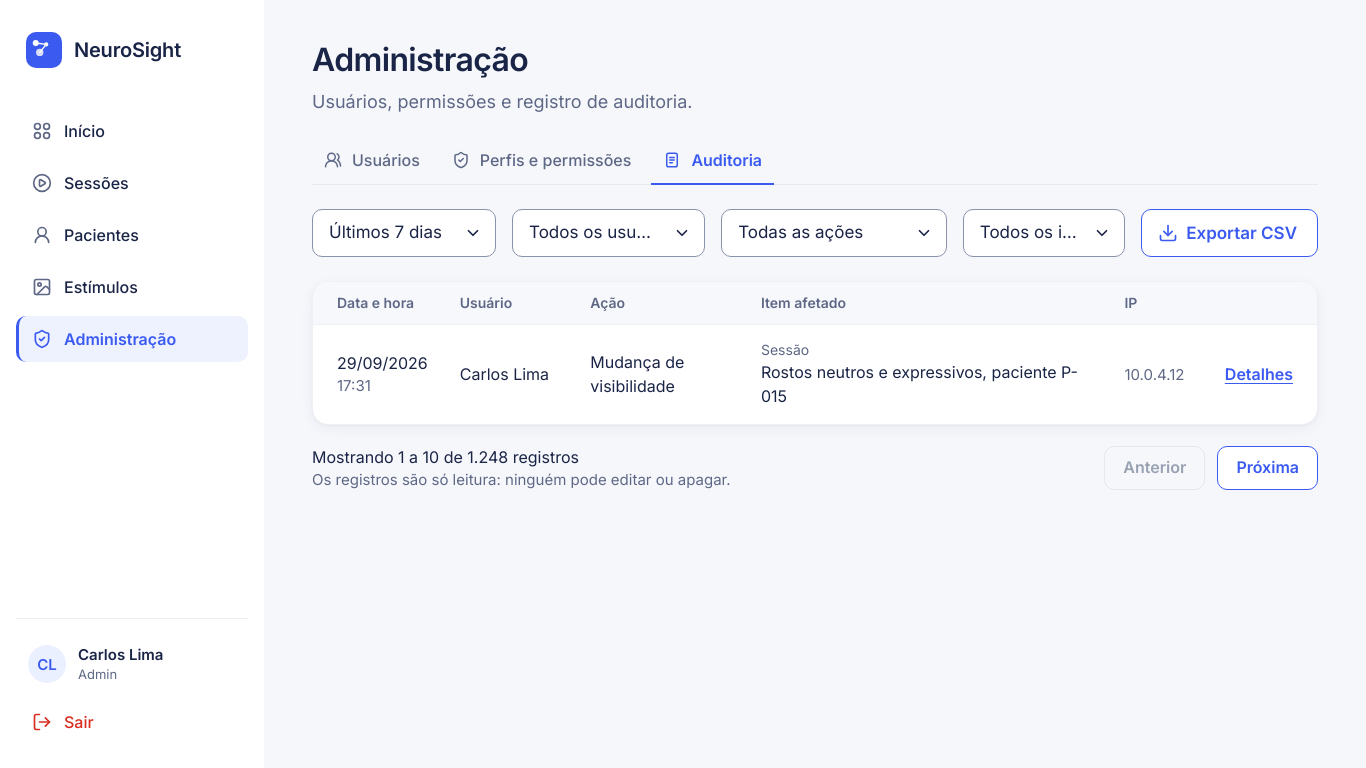
Test case: W22 Auditoria e W23 Detalhes › lista, filtra e abre o detalhe com o que mudou
Expected: the text "Rostos neutros e expressivos, paciente P-015" is shown, [761, 360, 1092, 408]
Expected: the text "Mudança de visibilidade" is shown, [574, 324, 745, 424]
Select "Login" in the 3rd dropdown named "Ação". click: (834, 233)
box: [721, 209, 947, 257]
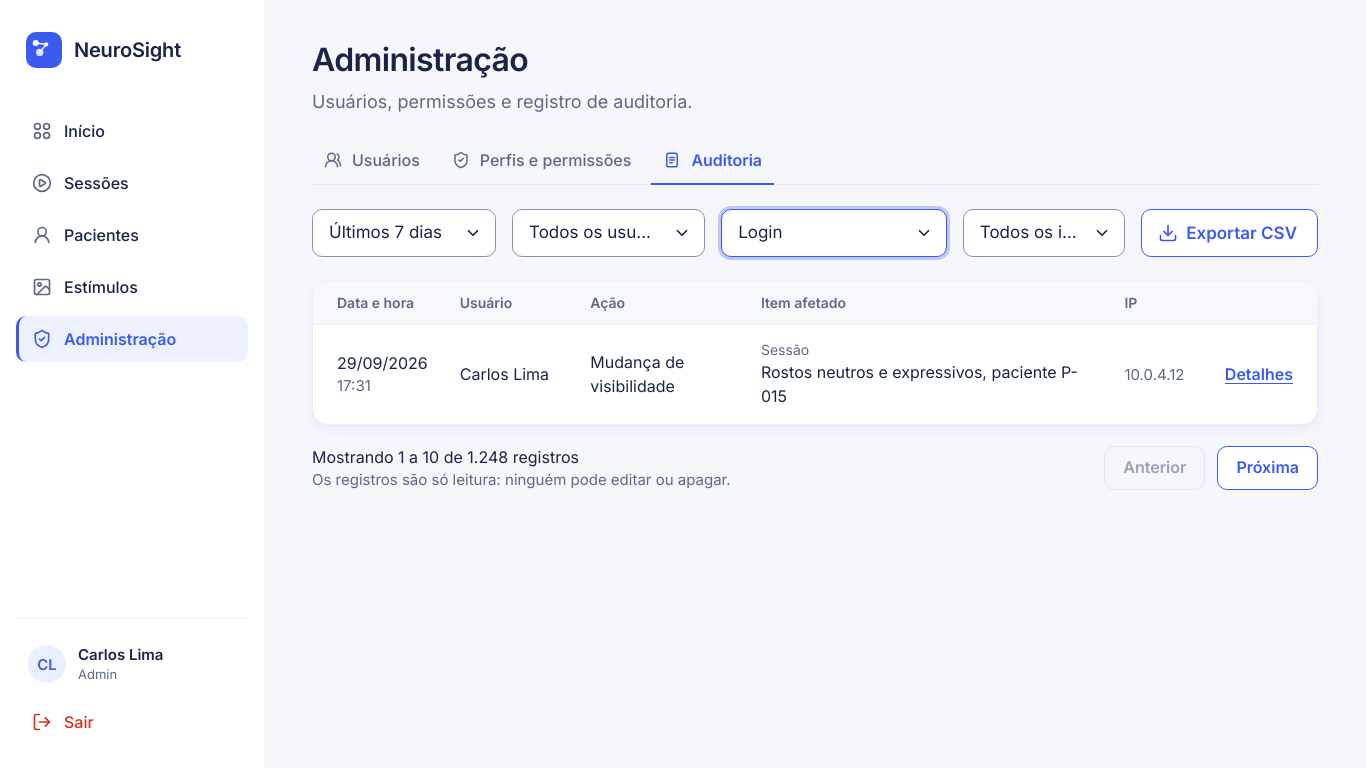
Click the button "Detalhes". click: (1259, 374)
box: [1225, 362, 1293, 386]
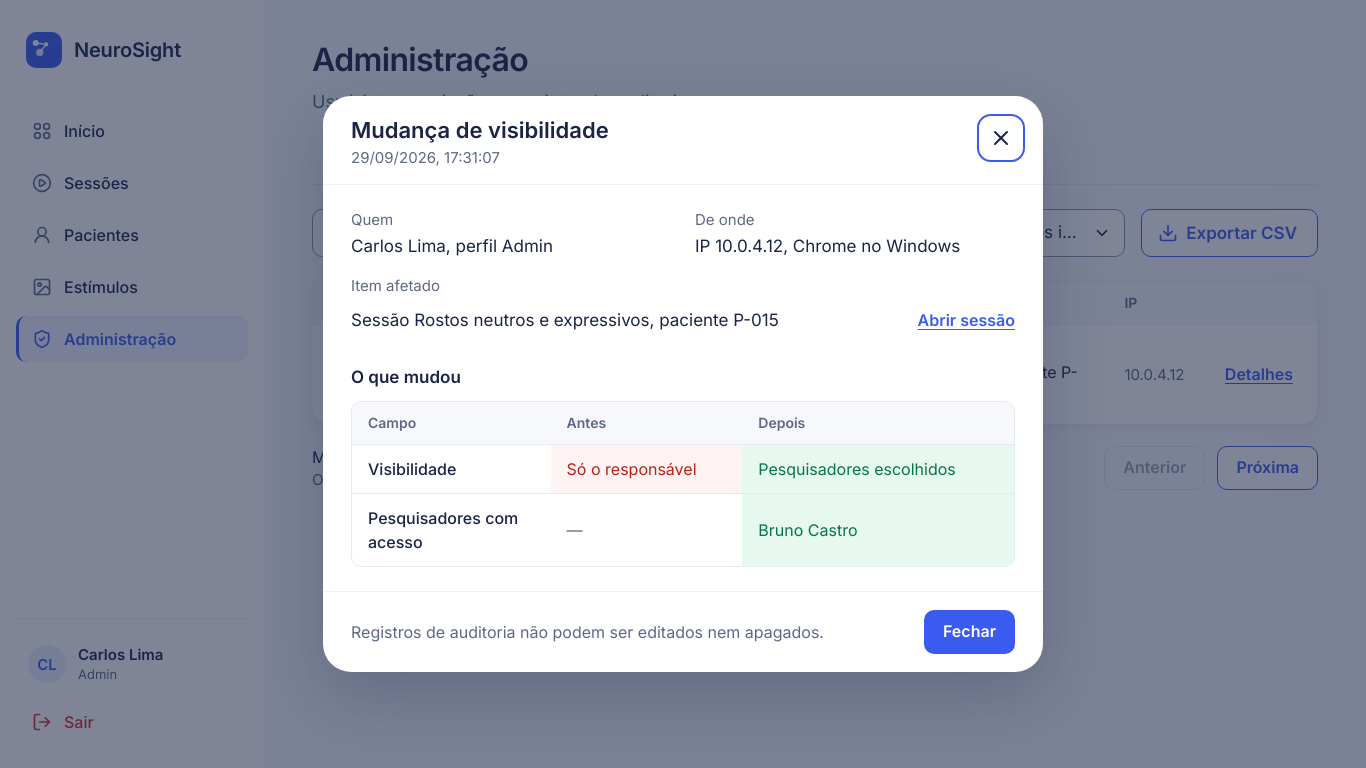
Expected: the text "Carlos Lima, perfil Admin" is shown, [351, 236, 553, 256]
Expected: the dialog "Mudança de visibilidade" shows "IP 10.0.4.12, Chrome no Windows", [695, 236, 960, 256]
Expected: the rows read "CampoAntesDepois", "VisibilidadeSó o responsávelPesquisadores escolhidos", "Pesquisadores com acesso—Bruno Castro", in this order, [352, 402, 1014, 444]; [352, 444, 1014, 493]; [352, 493, 1014, 566]
